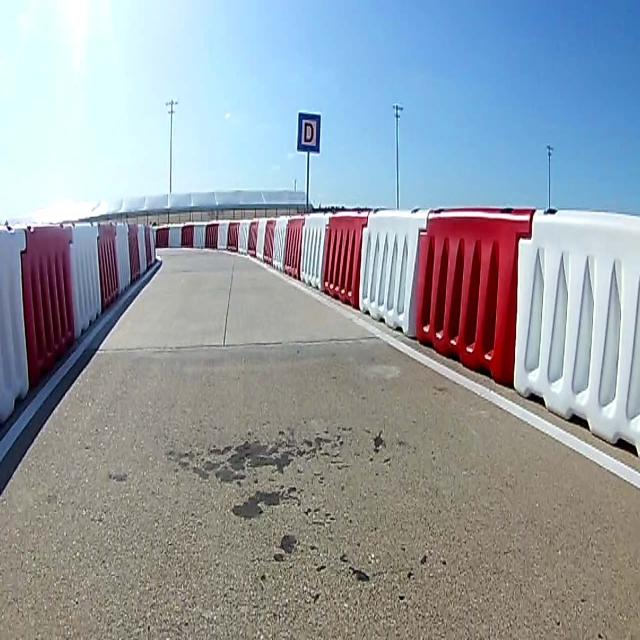durak: (298, 112, 322, 152)
